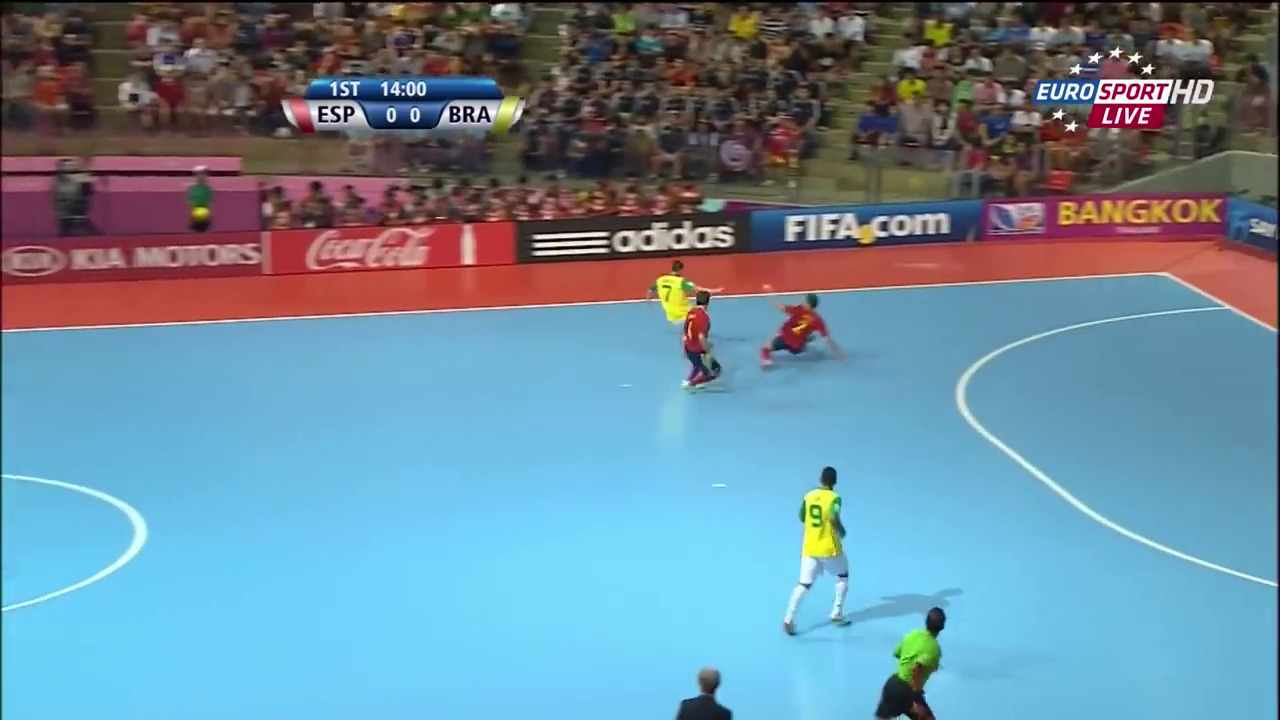person: (786, 467, 853, 628), (750, 282, 846, 372), (644, 262, 720, 324), (679, 298, 724, 393)
